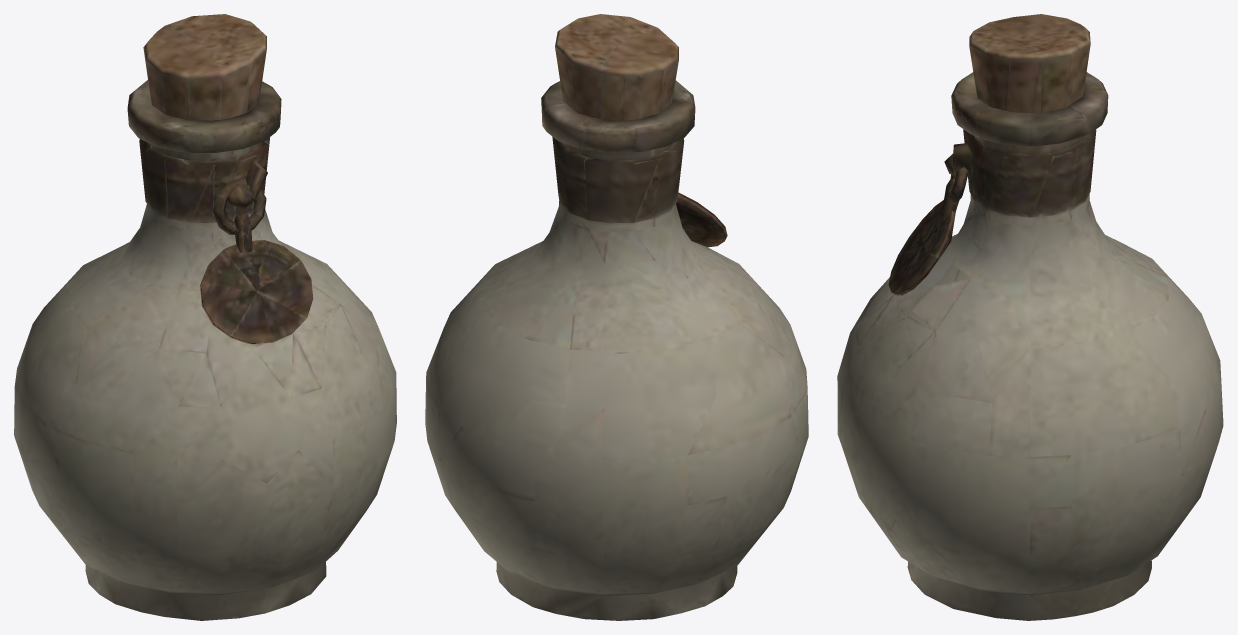
The model's file is g_potion.glb.
The picture shows the model from 3 angles, left to right: view 1: azimuth 30°, elevation 25°; view 2: azimuth 150°, elevation 25°; view 3: azimuth 270°, elevation 25°; orthographic projection.
Visible parts, largest first — view 1: g_potion; view 2: g_potion; view 3: g_potion.
Boxes of the visible parts, x1=… form: g_potion: x1=14, y1=14, x2=396, y2=620; g_potion: x1=425, y1=14, x2=808, y2=620; g_potion: x1=837, y1=14, x2=1223, y2=620.
Bounding box in the file's own units: 0.1958 × 0.3 × 0.1937.
Materials: 1 (1 with a texture image).
